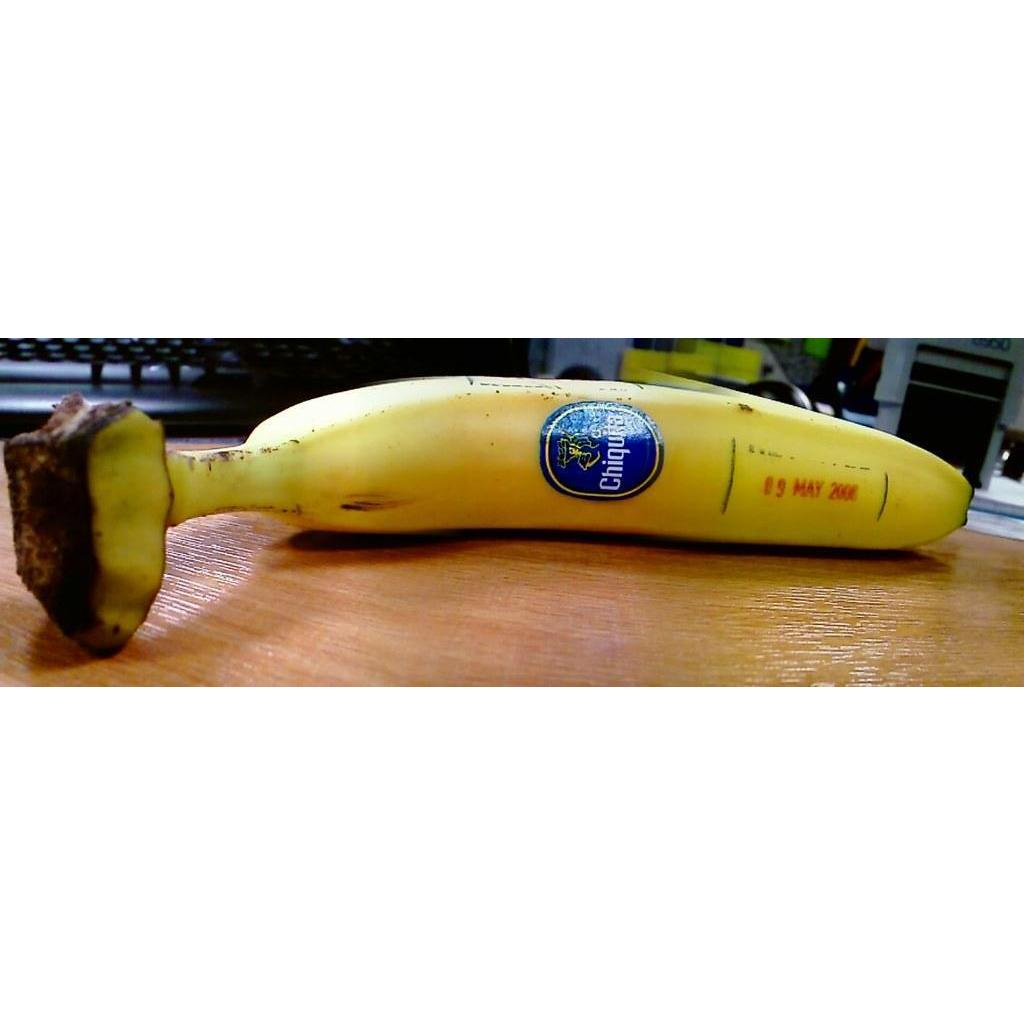banana: (217, 376, 974, 552)
